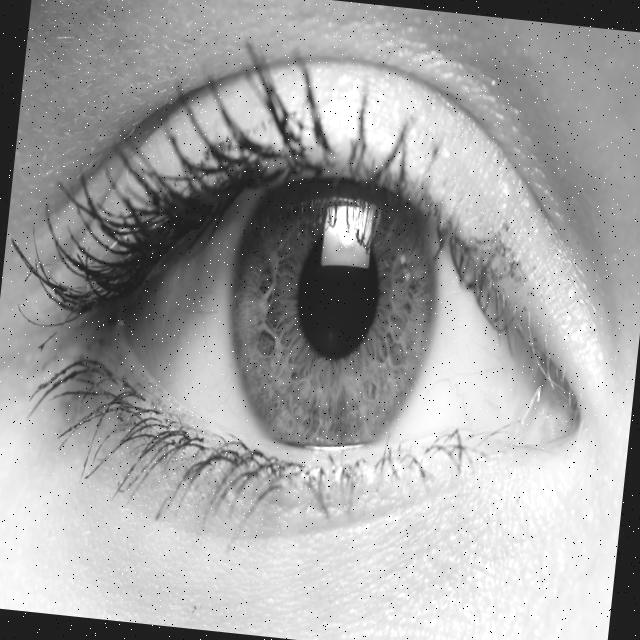Normal: (18, 73, 640, 535)
